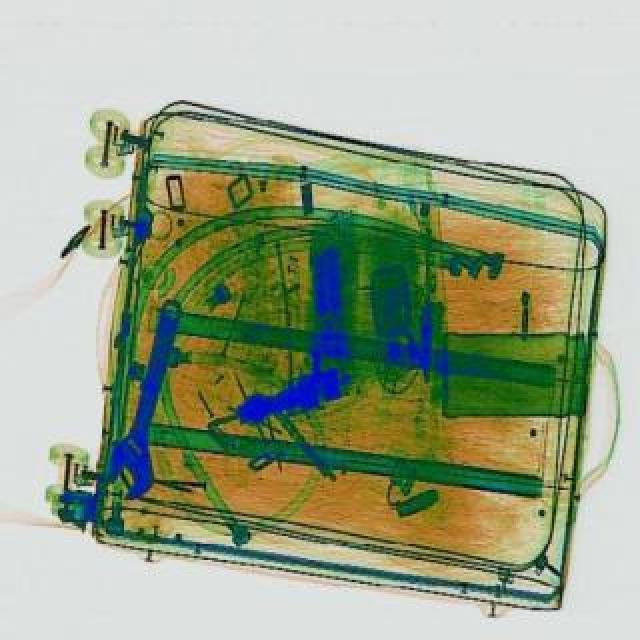scissors: (100, 294, 192, 504)
